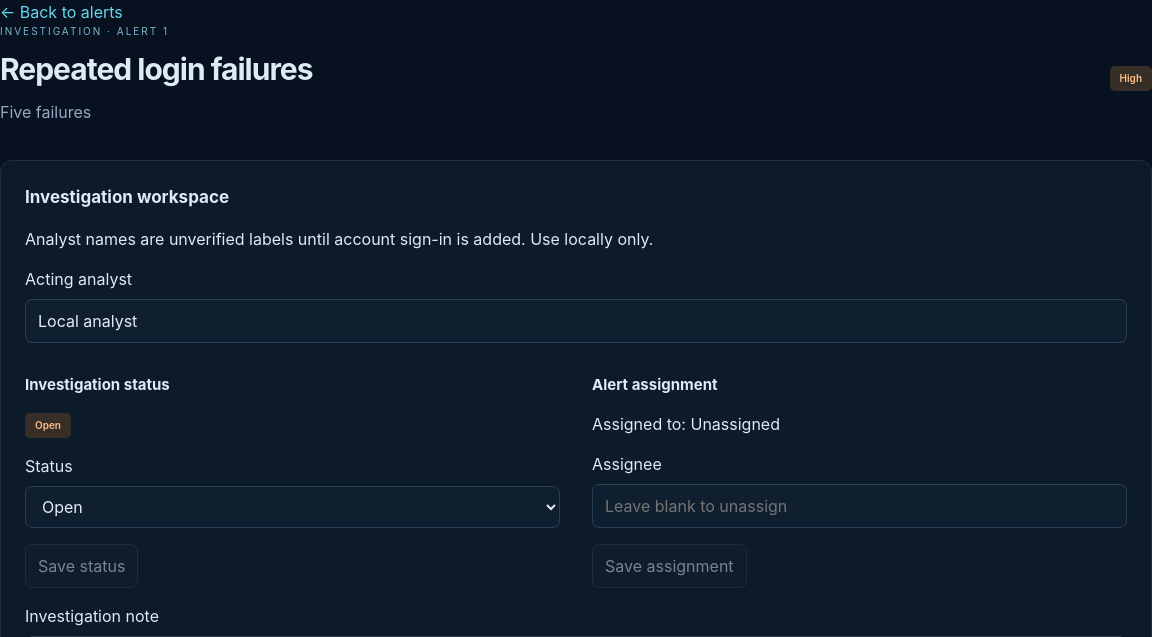
Test case: loads investigation evidence and saves analyst status
Expected: the heading "Repeated login failures" is shown, [0,47,312,92]
Expected: the text "Five failures" is shown, [0,102,91,122]
Select "Investigating" in the dropdown named "Investigation status": (292, 507) [25,486,560,528]
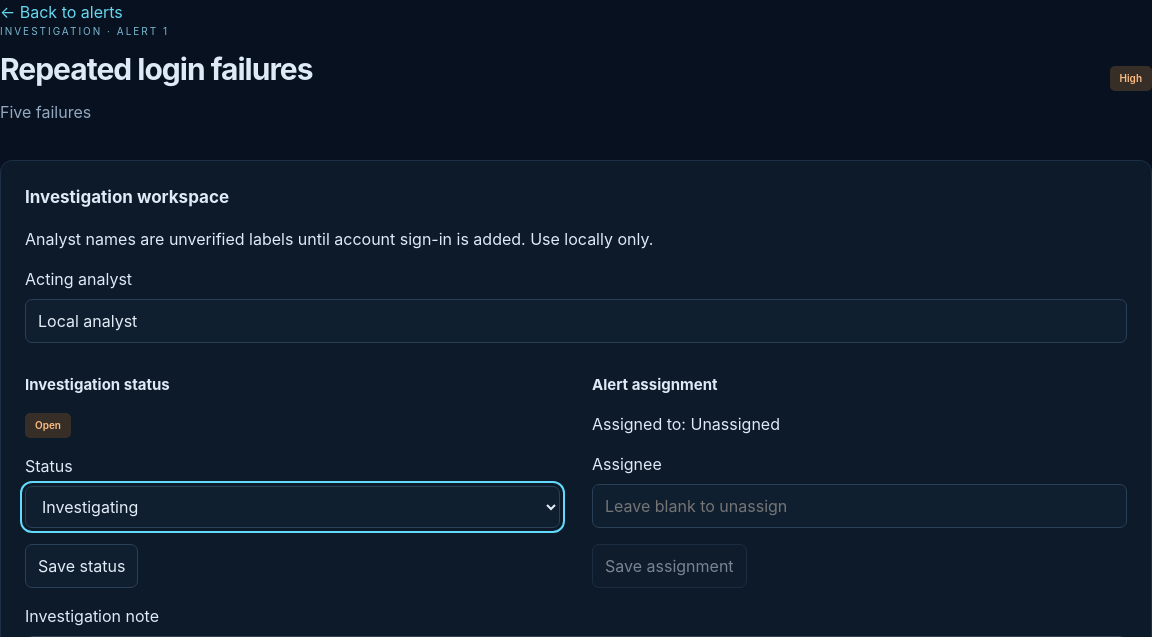
Click the button "Save status": (82, 566) [25,544,138,588]
(page scrolled)
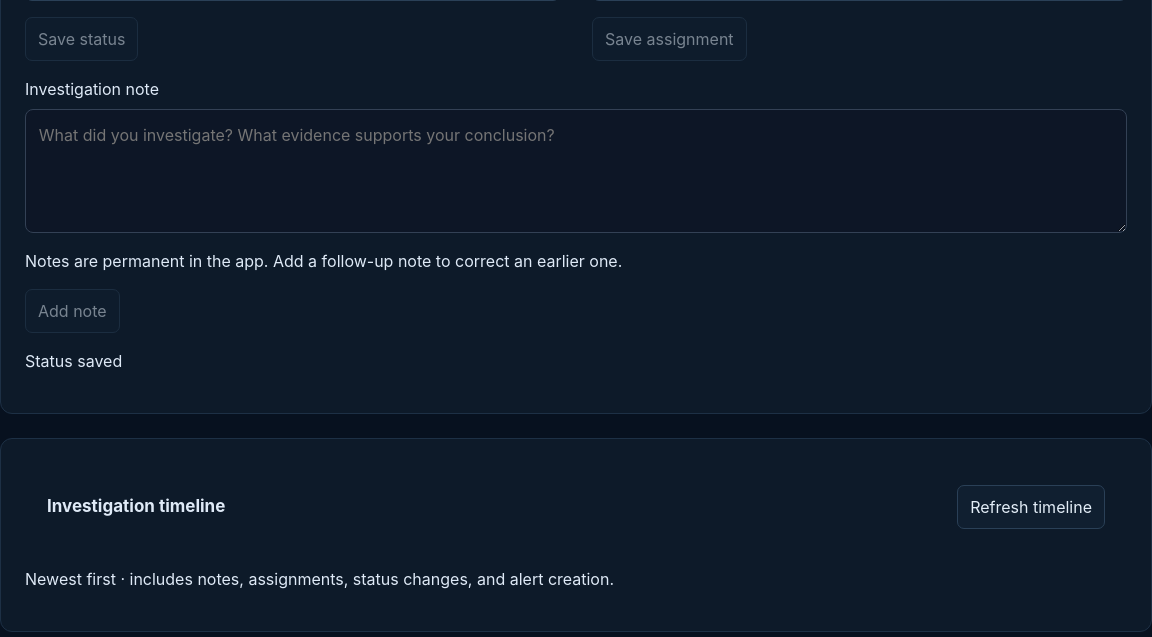
Result: the text "Status saved" is shown at [25,351,122,371]
